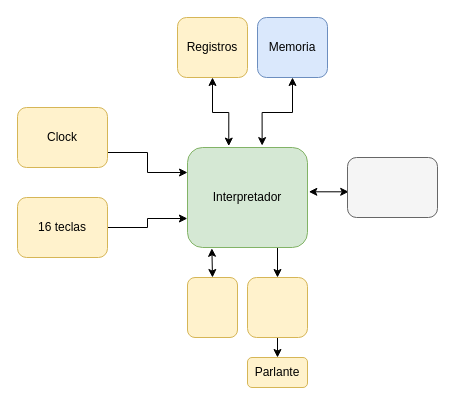
Image size: 455x405. Some labels were removed from this diagram. The shapes that lost their labels are listed below. From the top down, each one's centre as x and y in pixels, then its label:
[392,187]: Pantalla 64 x 32
[212,307]: Timer Delay
[277,307]: Timer Sonido
